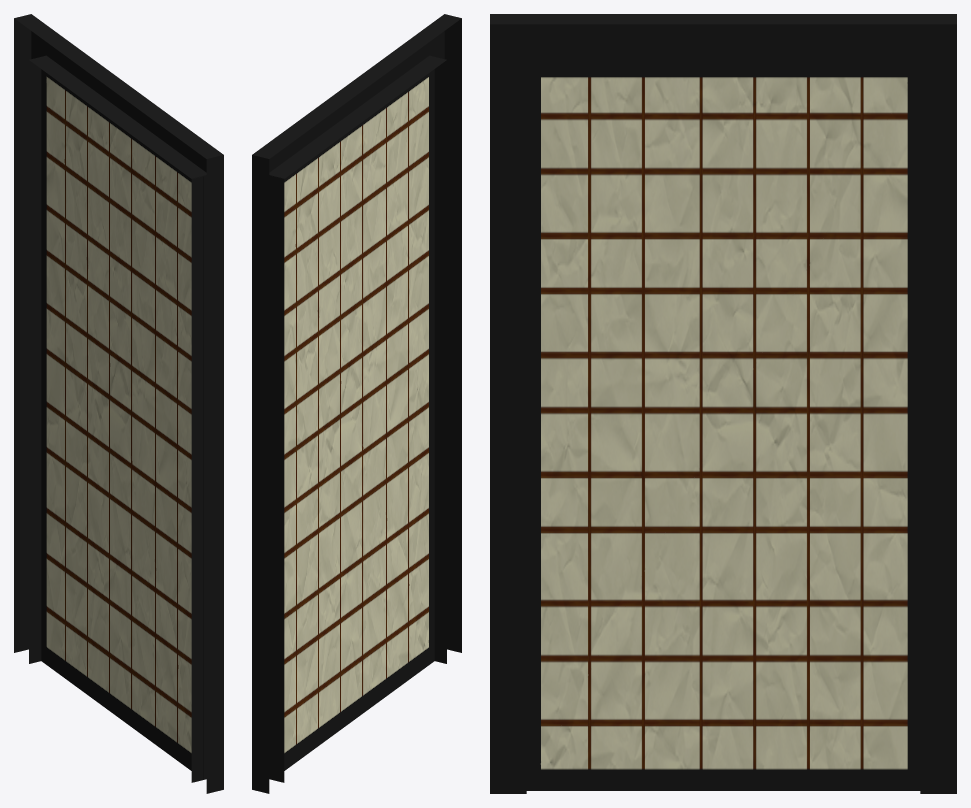
Rendered from door.fbx.
3 renders of one model, left to right at view 1: azimuth 30°, elevation 25°; view 2: azimuth 150°, elevation 25°; view 3: azimuth 270°, elevation 25°, orthographic. The views are drawn at different scales.
Parts seen in each view (by area): view 1: Door; view 2: Door; view 3: Door.
Boxes of the visible parts, box(x1,y1,x2,y2) form: Door: box(14, 14, 223, 793); Door: box(252, 14, 461, 793); Door: box(490, 14, 956, 793).
Size of the model in its own units: 5.22 by 182 by 100.
